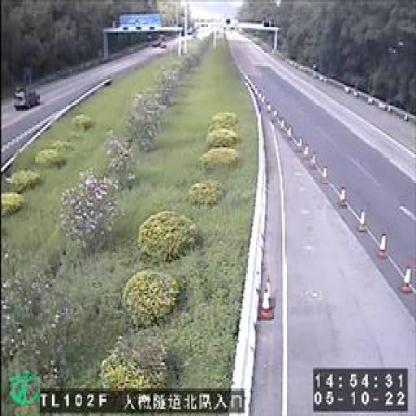Car: (14, 85, 38, 109)
